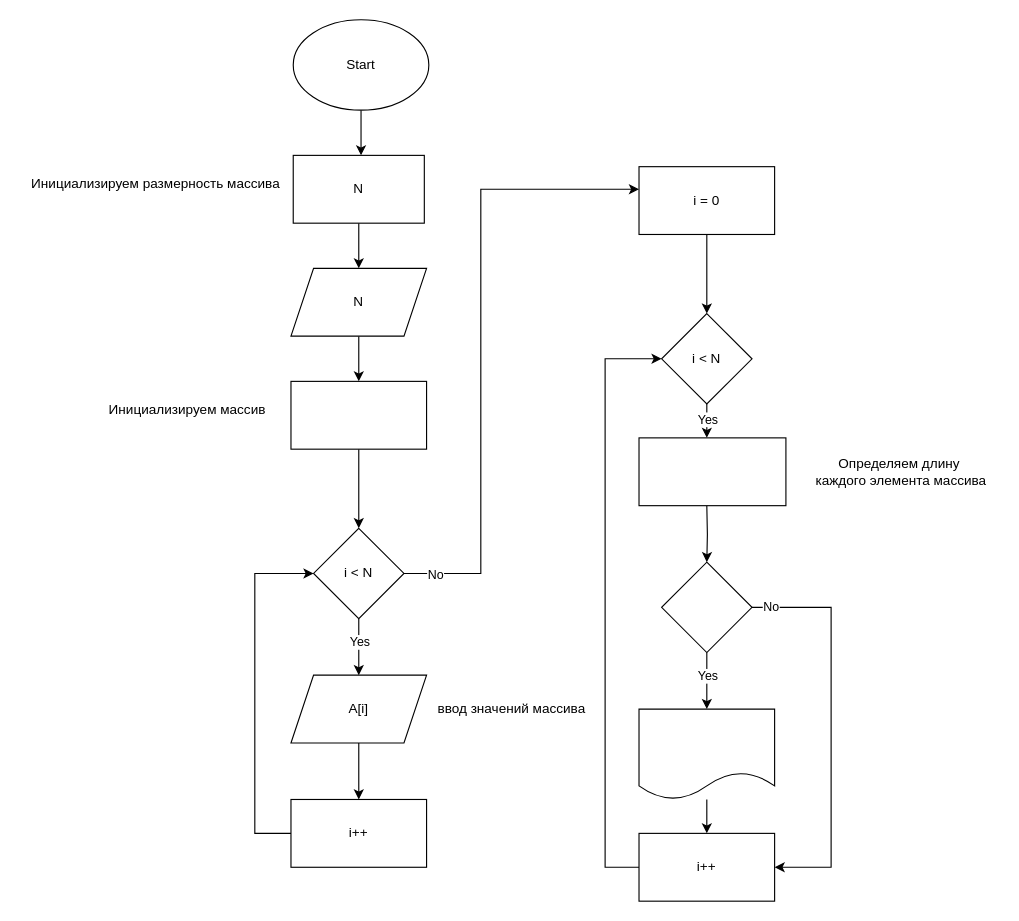
This 1019x921 diagram has some shape labels left out. Here are the shapes that lost their labels. From the top down, the box of each, then its label:
(290, 380, 427, 449): stringArray[N] (значения массива) i = 0
(638, 437, 786, 506): int srtLen = stringArray[i].Length
(660, 561, 752, 653): srtLen <= 3
(638, 708, 775, 799): stringArray[i]
